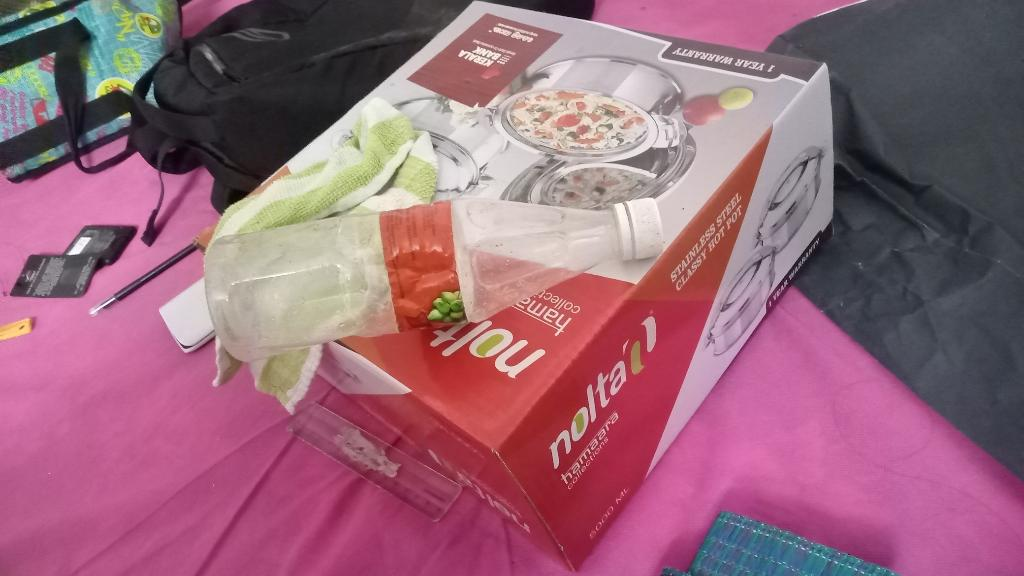garbage: (189, 194, 673, 340)
